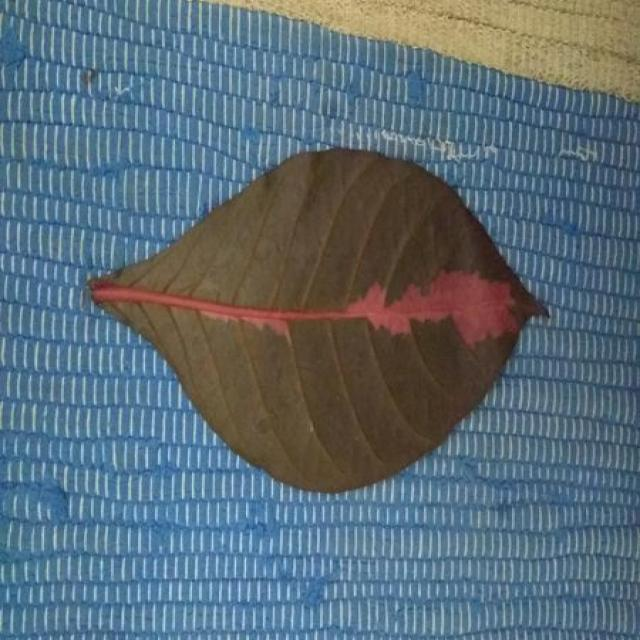caricature: (3, 0, 638, 639), (3, 0, 637, 639), (90, 149, 545, 491)
